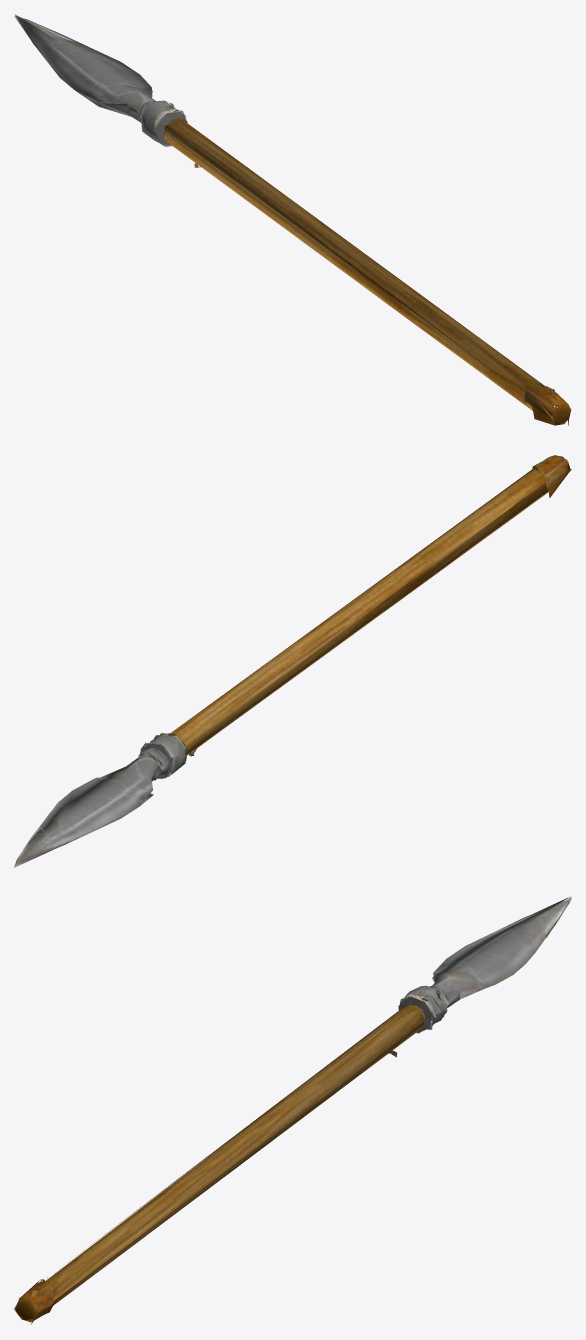
Rendered from spear_lod1.fbx.
The picture shows the model from 3 angles, top to bottom: view 1: azimuth 30°, elevation 25°; view 2: azimuth 150°, elevation 25°; view 3: azimuth 330°, elevation 25°; orthographic projection. The views are drawn at different scales.
Parts seen in each view (by area): view 1: tripo_node_e0526569-a62e-4f7e-9d9a-0b02ccf64839; view 2: tripo_node_e0526569-a62e-4f7e-9d9a-0b02ccf64839; view 3: tripo_node_e0526569-a62e-4f7e-9d9a-0b02ccf64839.
Boxes of the visible parts, x1,y1,x2,y2 form: tripo_node_e0526569-a62e-4f7e-9d9a-0b02ccf64839: [14, 14, 571, 425]; tripo_node_e0526569-a62e-4f7e-9d9a-0b02ccf64839: [14, 455, 571, 867]; tripo_node_e0526569-a62e-4f7e-9d9a-0b02ccf64839: [14, 896, 571, 1324].
Bounding box in the file's own units: 0.1588 × 0.0983 × 2.28.
